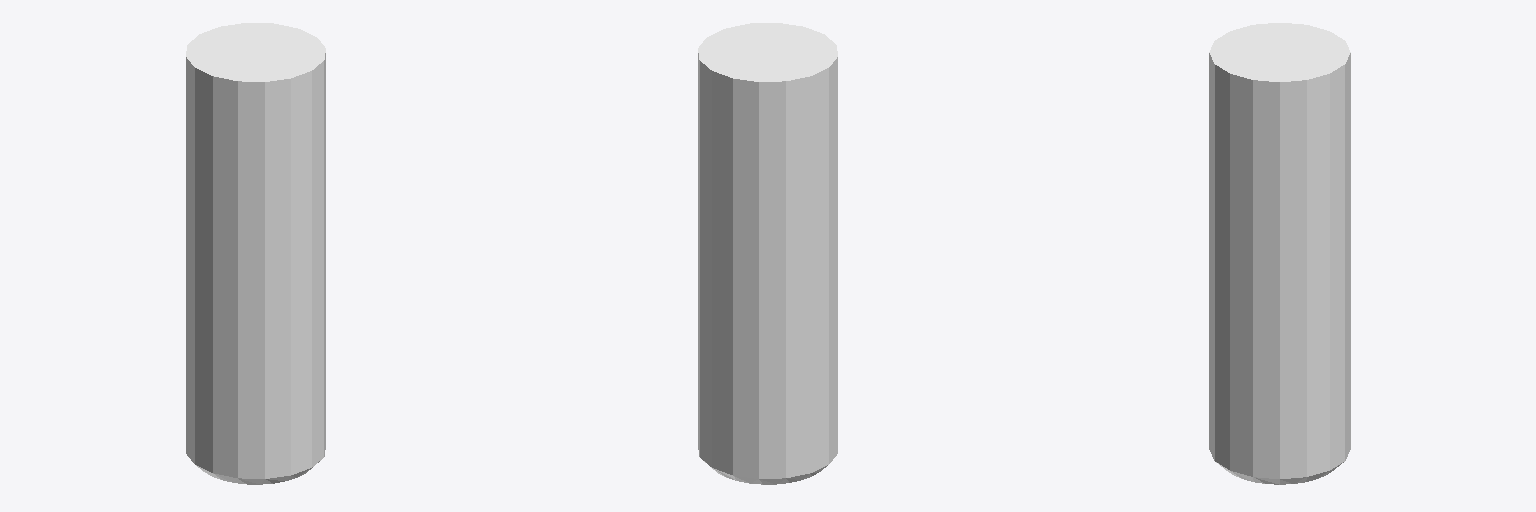
The model's file is nylon_gear_holder.obj.
3 views of the same model, side by side, from view 1: azimuth 30°, elevation 25°; view 2: azimuth 150°, elevation 25°; view 3: azimuth 270°, elevation 25° (orthographic).
Visible parts, largest first — view 1: 1; view 2: 1; view 3: 1.
Boxes of the visible parts, <box> form: 1: <box>186,23,325,484</box>; 1: <box>698,23,837,484</box>; 1: <box>1209,23,1350,484</box>.
Size of the model in its own units: 12.7 by 40.25 by 12.7.